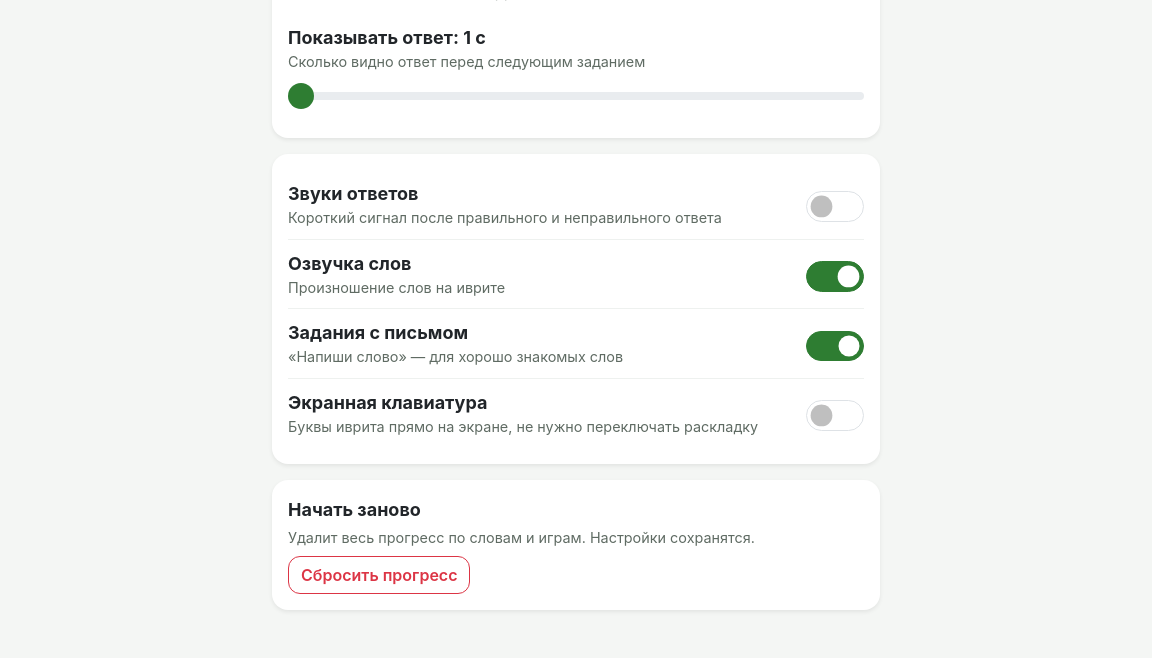
Настройки › сброс прогресса спрашивает подтверждение и сохраняет настройки
(page scrolled)
Click the button "Сбросить прогресс": point(379, 575) 288,556 -> 470,594
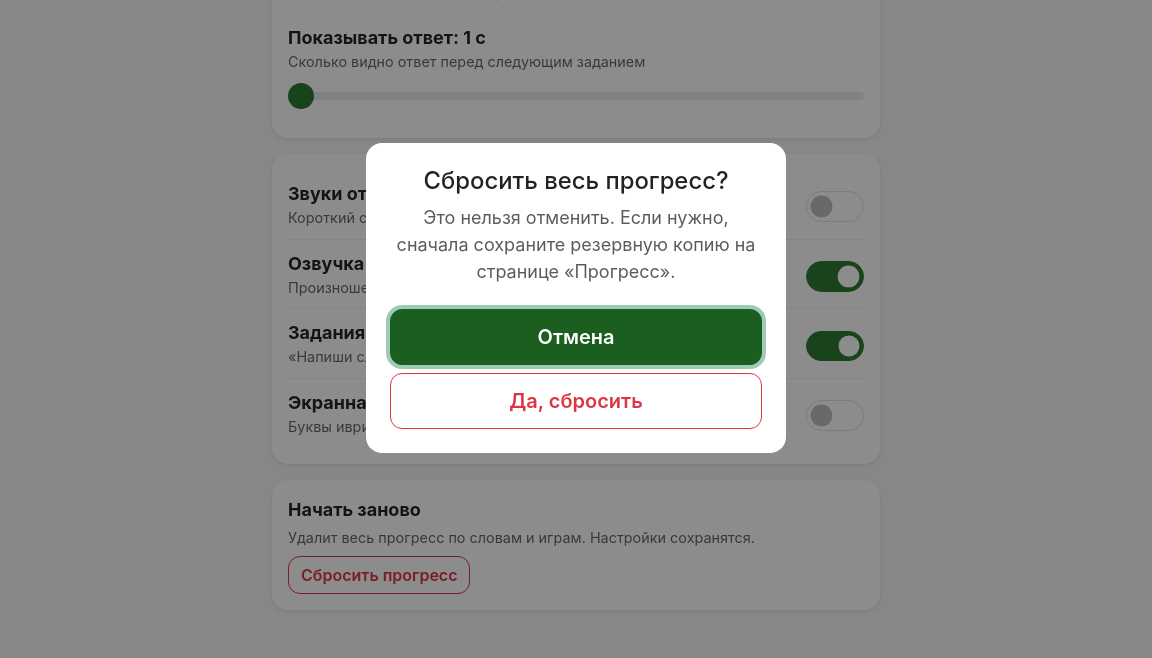
Click the button "Да, сбросить": point(576, 401) 390,373 -> 762,429
(page scrolled)
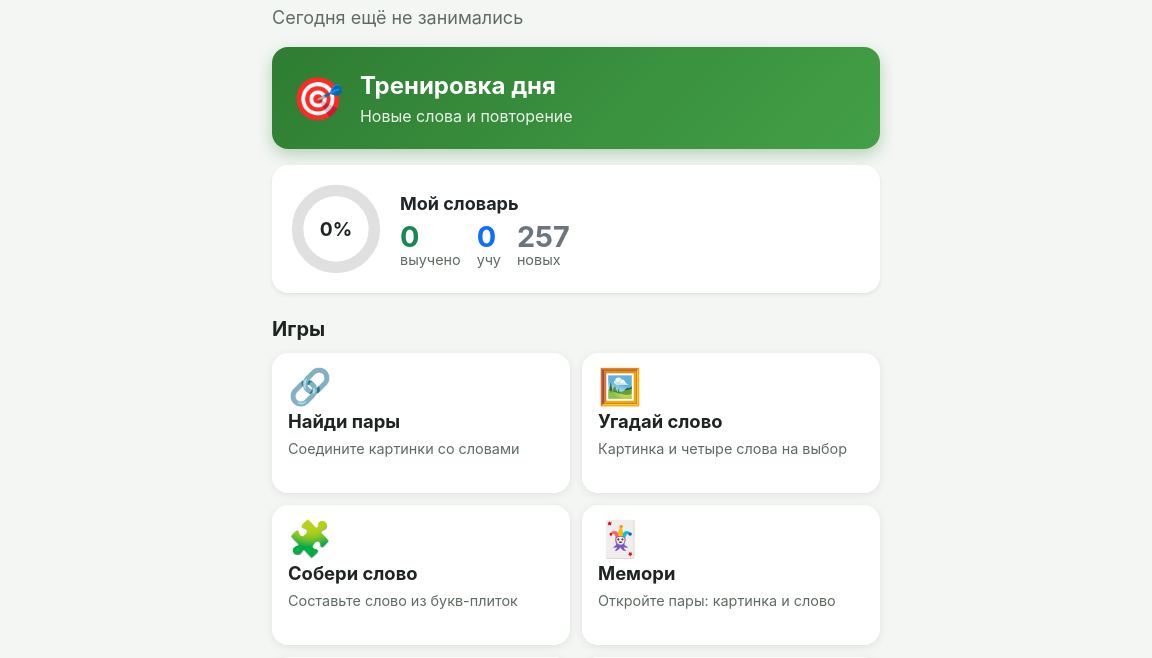
Expected: the text "Мой словарь" is shown, 400,193 -> 519,214
